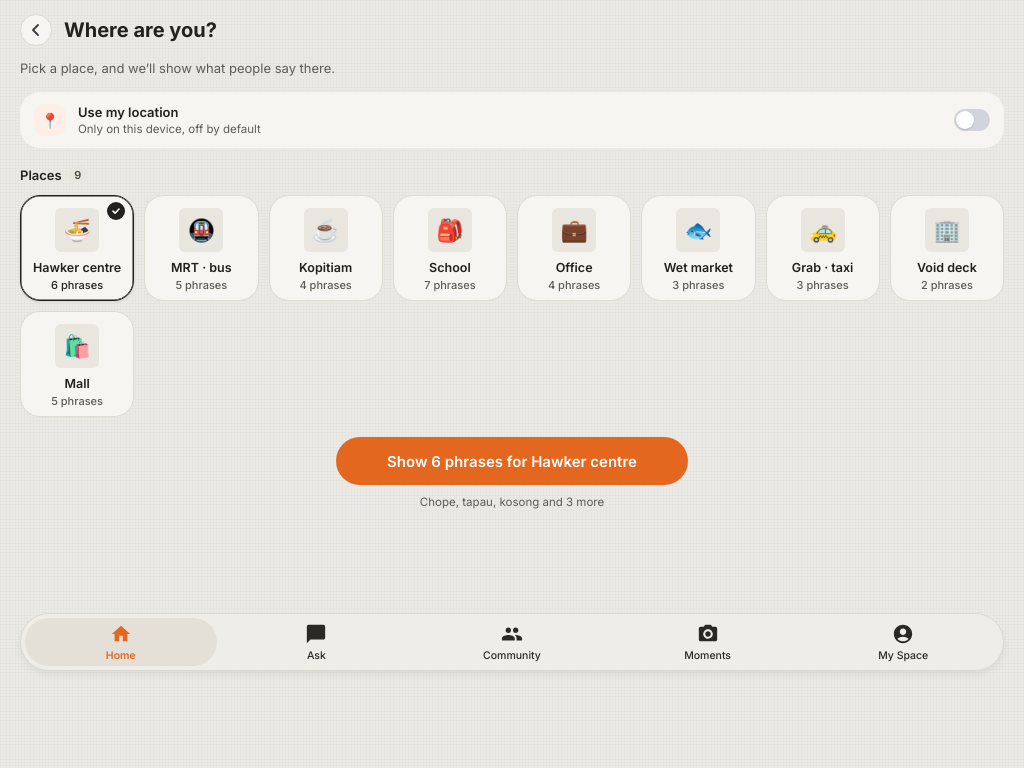
Test: location stays off with a message when permission is refused
Click the switch named "Use my location": (972, 120) 954,109 -> 990,131
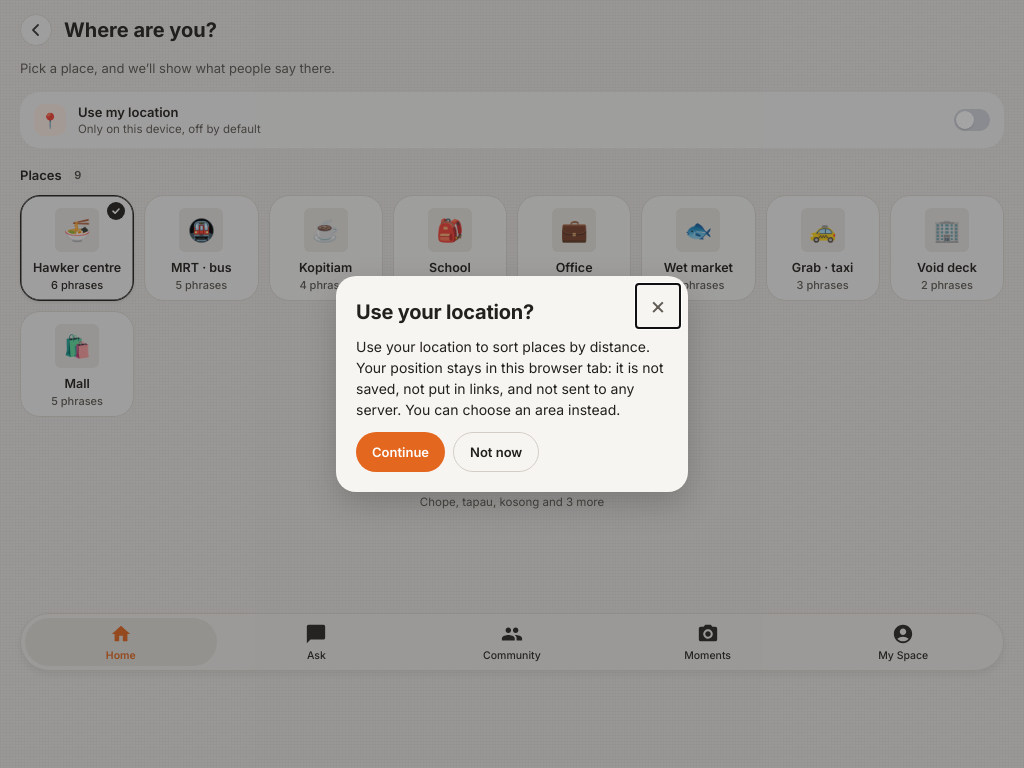
Click the button "Continue": (400, 452) 356,432 -> 445,472
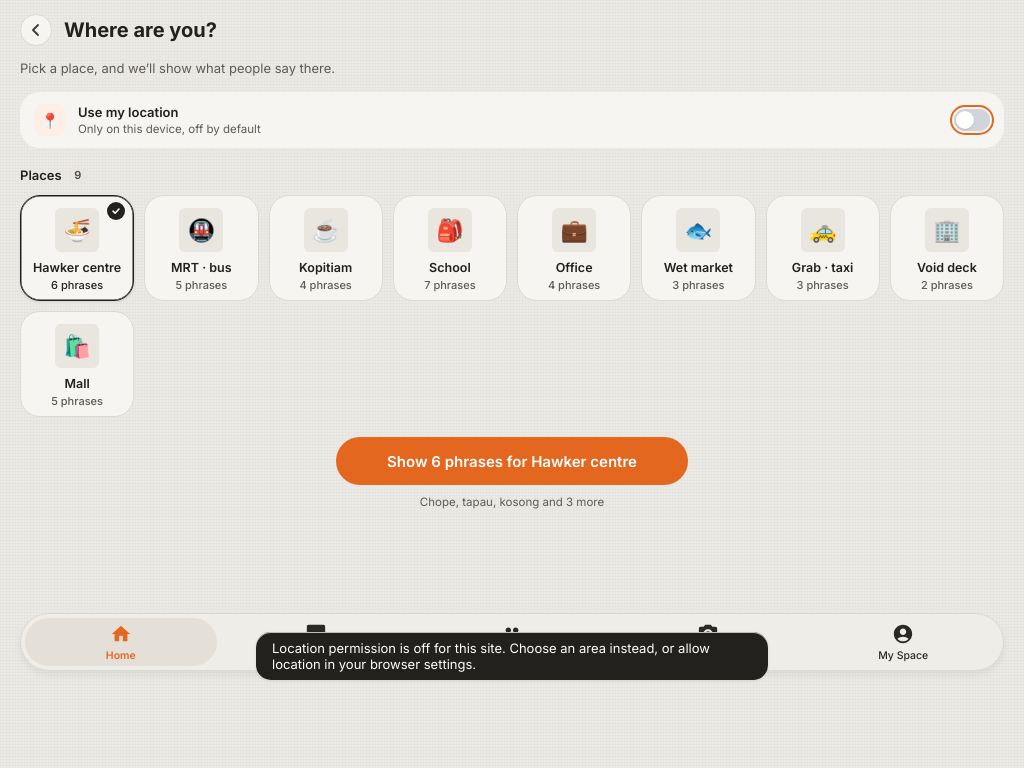
Now the message shows "Location permission is off", box 272,640 -> 710,672
